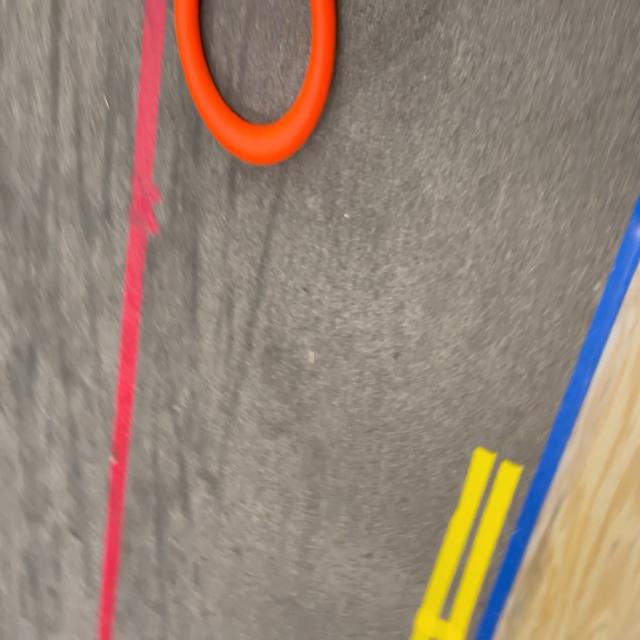note: (174, 0, 337, 165)
